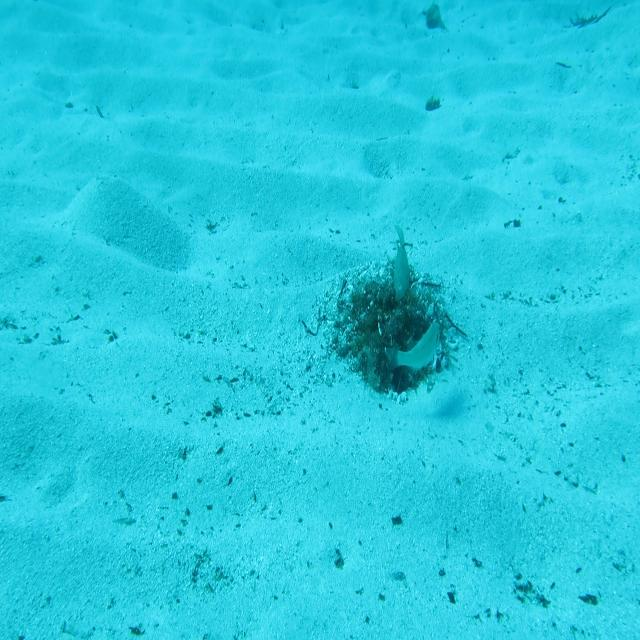NIP_CORE: (389, 220, 412, 305)
female: (384, 321, 445, 374)
nest: (334, 279, 466, 410)
